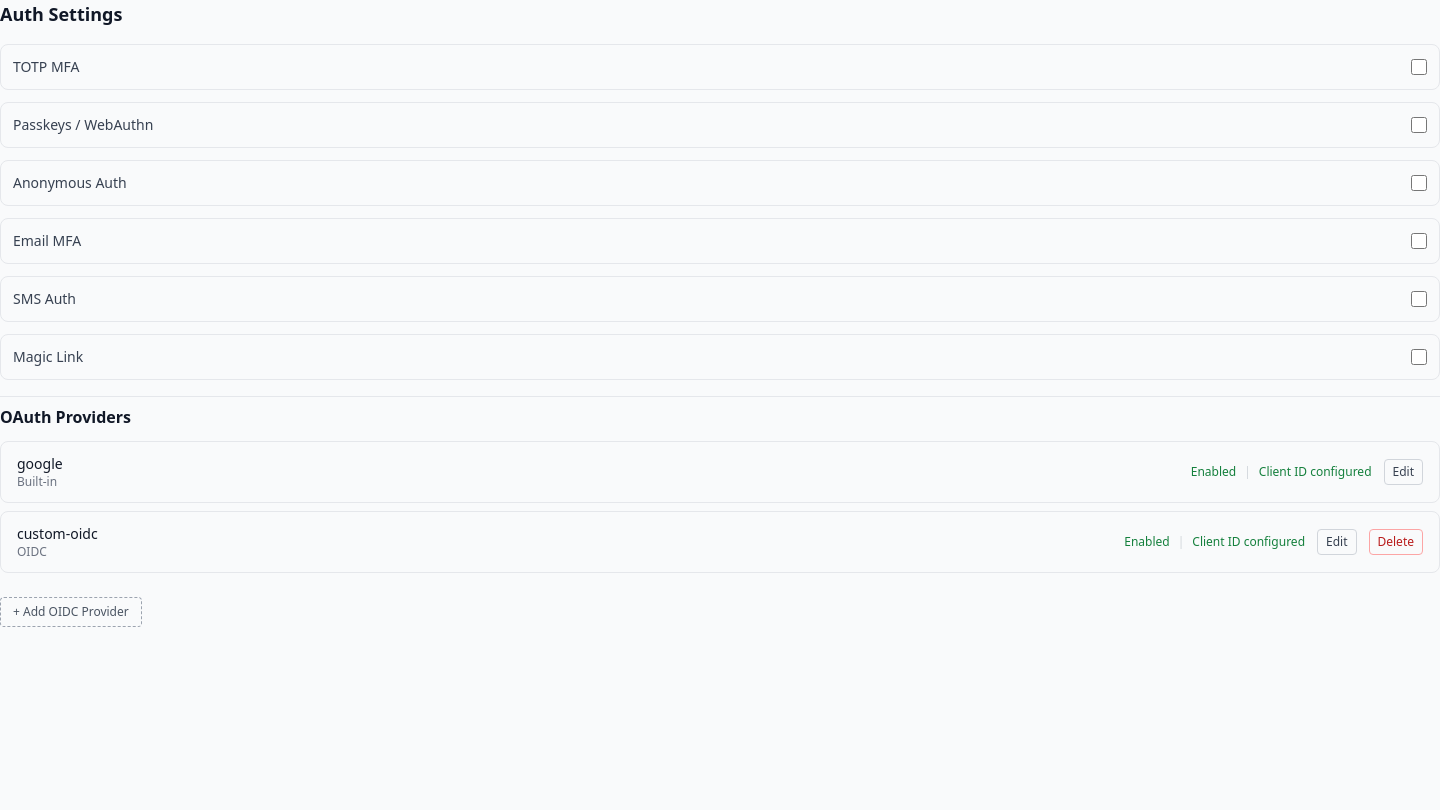
Scenario: AuthSettings OIDC deletion › successful custom OIDC deletion reloads providers from server
Click the button with test id "provider-delete-custom-oidc": x=1396, y=542 1368,529 -> 1423,555
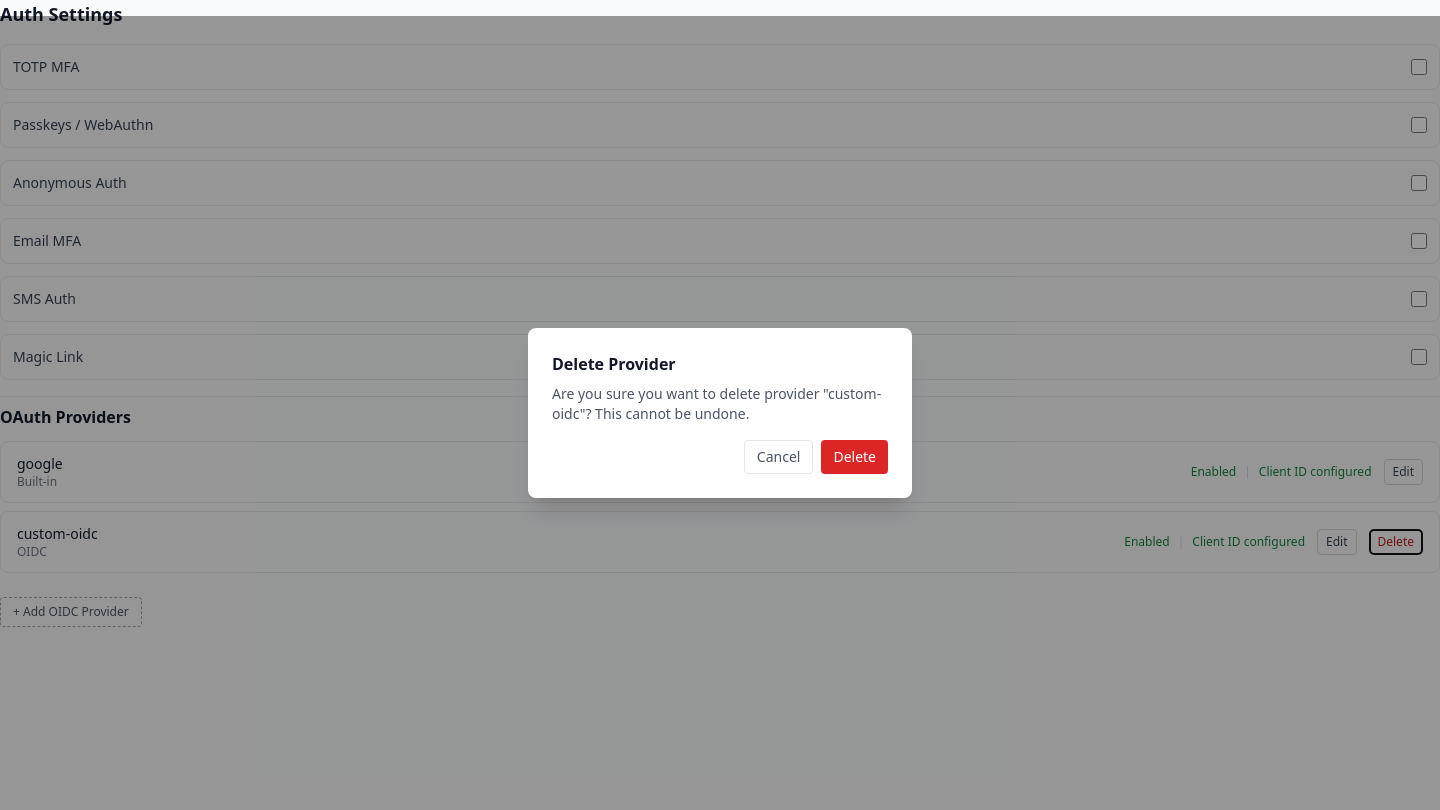
expect the heading "Delete Provider" is shown: met, box 552,353 -> 676,375
Click the button "Delete": x=855, y=457 821,440 -> 888,474
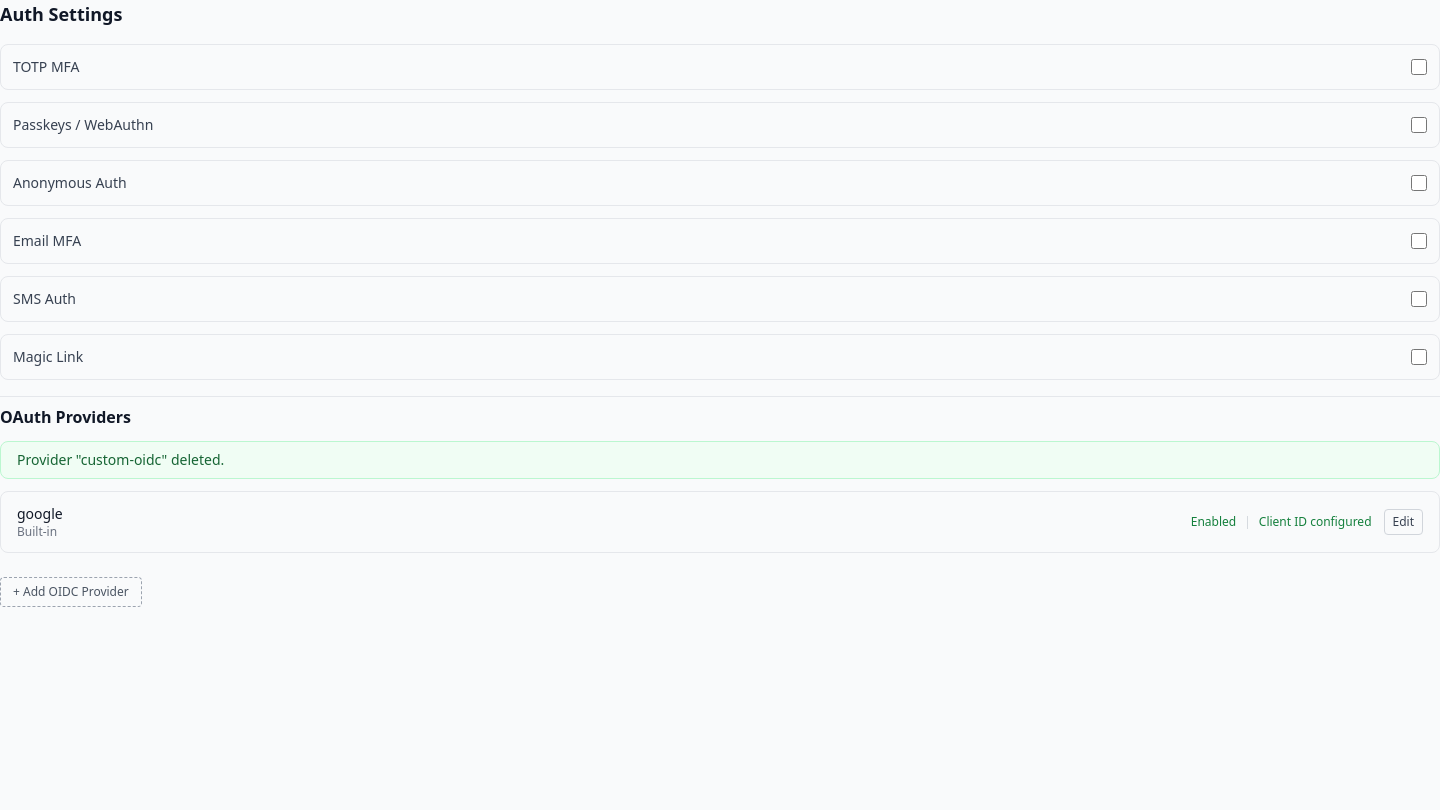
expect the element with test id "provider-row-custom-oidc" is gone: met
expect the text "Provider \"custom-oidc\" deleted." is shown: met, box 0,441 -> 1439,479
